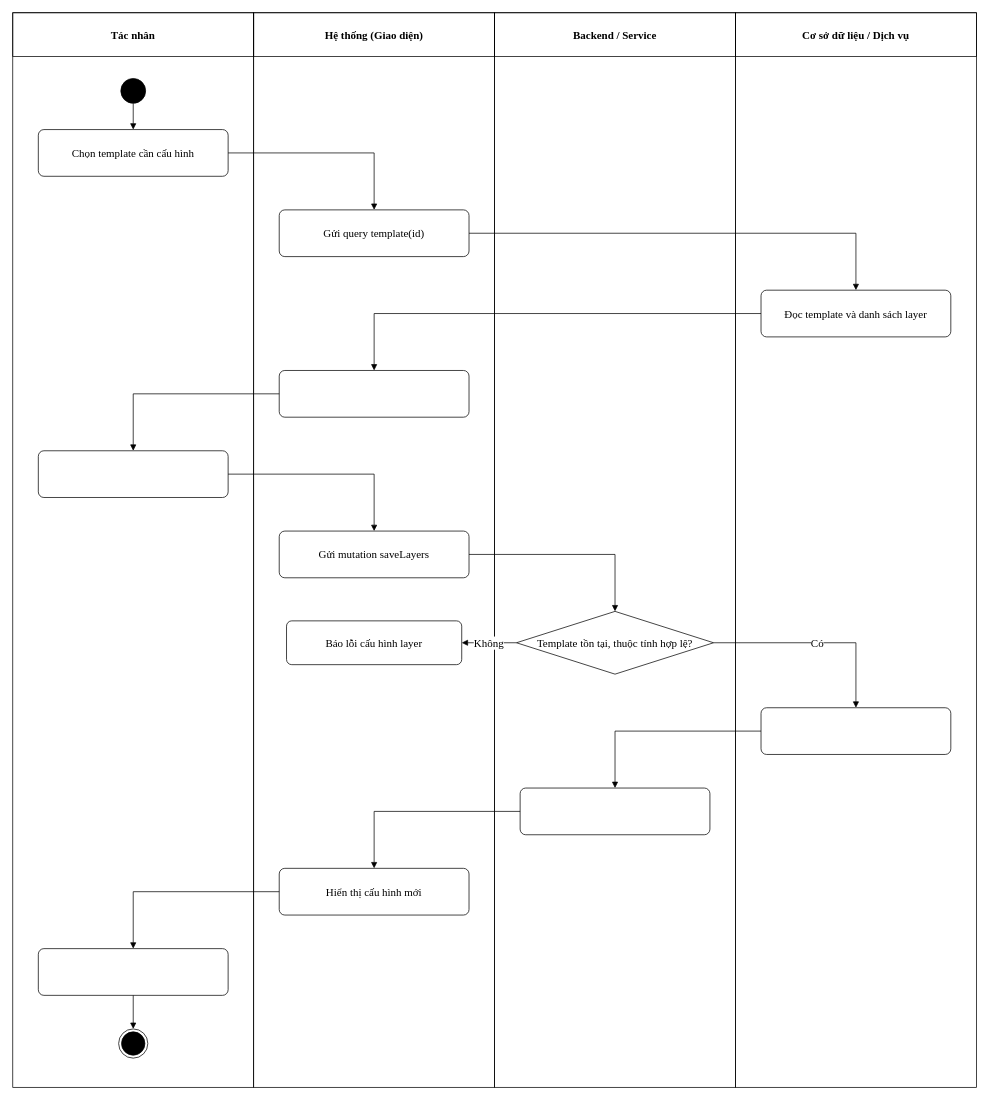
This 989x1100 diagram has some shape labels left out. Each missing label, with the centre of its shape:
Hiển thị canvas và bảng layer: (x=373, y=393)
Kiểm tra kết quả: (x=133, y=971)
Lưu layers, personalization_fields: (x=855, y=730)
Thêm / sửa layer, khai báo trường cá nhân hóa: (x=133, y=473)
Xóa cache template trong Redis: (x=614, y=811)
